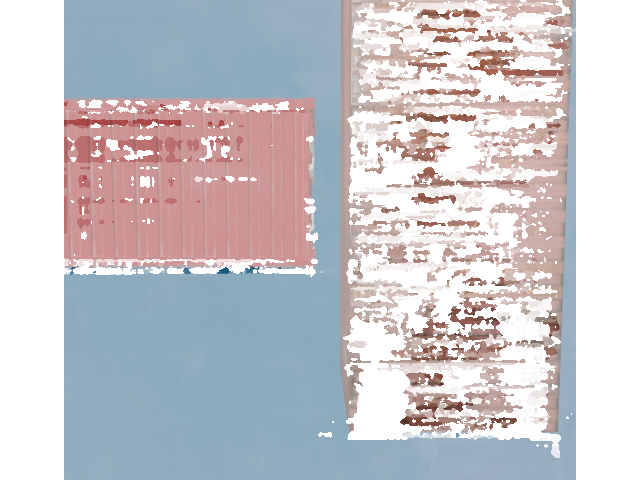container4: (338, 0, 576, 440)
container5: (0, 95, 325, 274)
